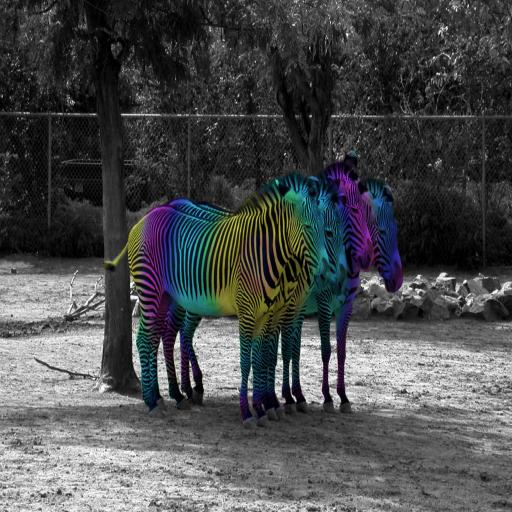Zebra: (104, 150, 404, 430)
